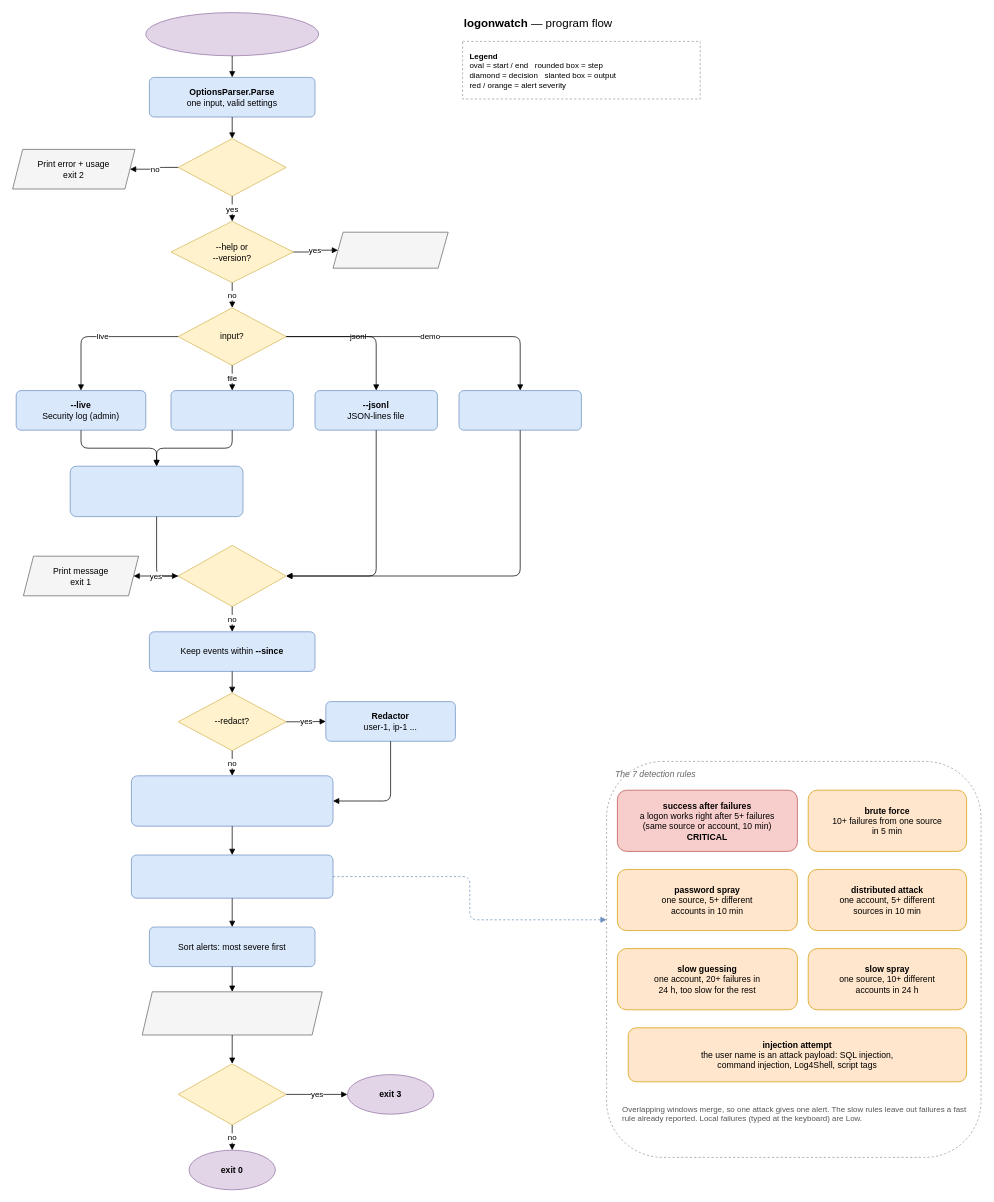
The diagram is 994 pixels wide and 1202 high, and some of its shapes have lost their labels. Each missing label, with the box of its shape:
--demo built-in scenario: (458, 390, 581, 430)
--file exported .evtx: (170, 390, 293, 430)
any alerts?: (177, 1063, 286, 1125)
Detector.Prepare drop SYSTEM, services, PC$ accounts; sort by time: (131, 775, 333, 826)
Print and exit 0: (332, 231, 448, 268)
read error?: (177, 545, 286, 607)
ReportWriter text, or JSON with --json: (141, 991, 322, 1035)
Run the 7 rules (sliding windows and payload patterns): (131, 854, 333, 898)
SecurityEventParser XPath 4624/4625, trust only Security-Auditing provider: (69, 465, 243, 517)
Start logonwatch <input> [options]: (145, 12, 319, 56)
valid?: (177, 138, 286, 196)
